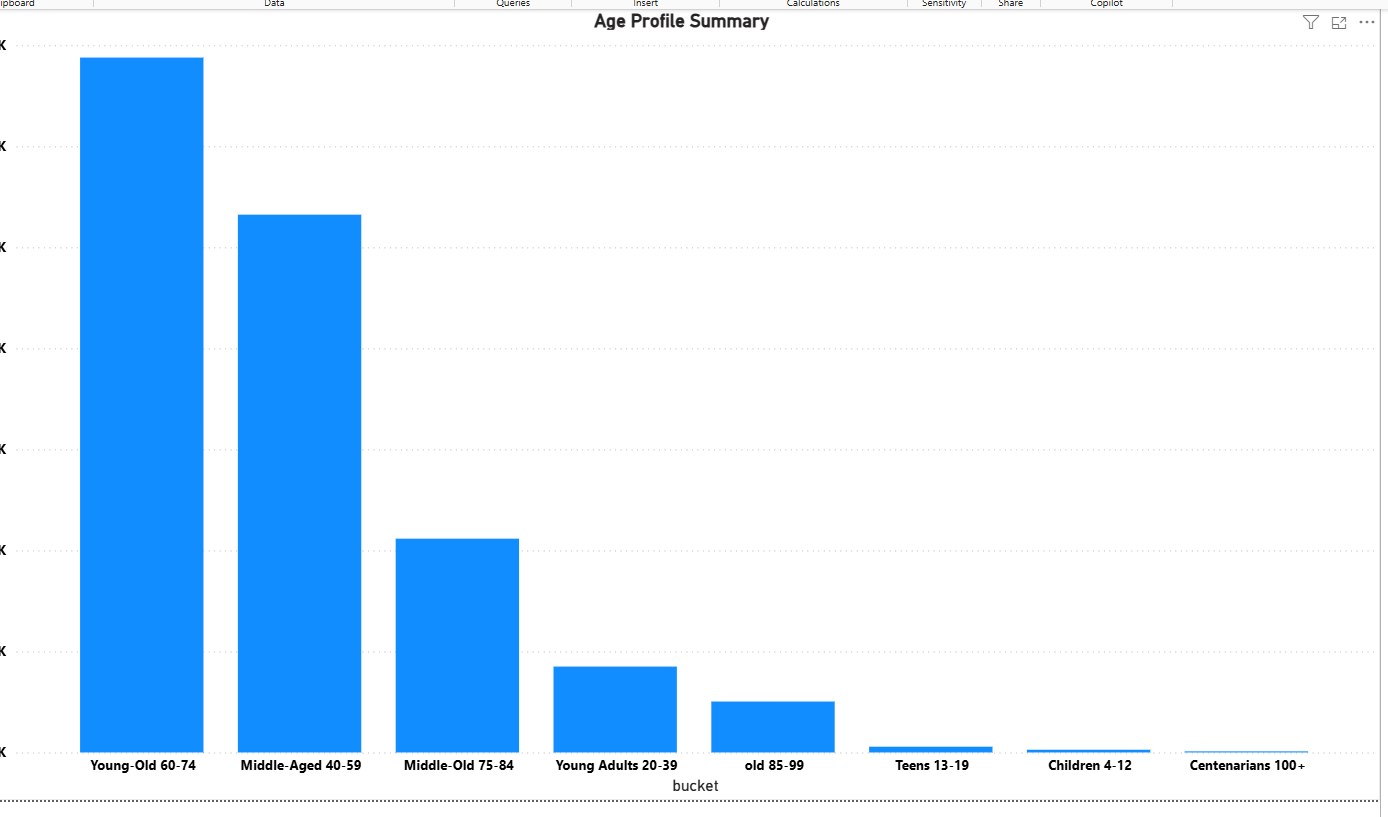

The dashboard page shown, as its layout file describes it:
{"tool":"powerbi","page":{"name":"most_common_age_group","canvas":[1280,720],"ordinal":2},"visuals":[{"type":"columnChart","title":"Age Profile Summary","fields":{"Category":["Query3.bucket"],"Y":["Sum(Query3.count_age)"]},"box":[9.5,0,1270.5,719.8],"z":0}]}

Visuals, with their boxes on the page's 1280x720 design canvas (x1, y1, x2, y2). These are canvas units, not pixel positions in the 1388x817 screenshot, which may show the page scaled, cropped or inside an application window:
"Age Profile Summary" columnChart: (10, 0, 1280, 720)
